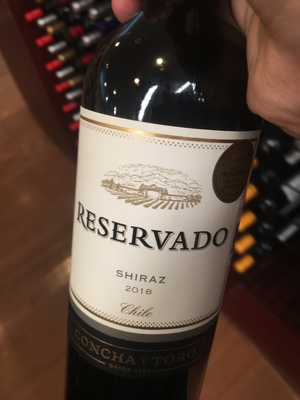reservado shiraz: (69, 31, 258, 400)
